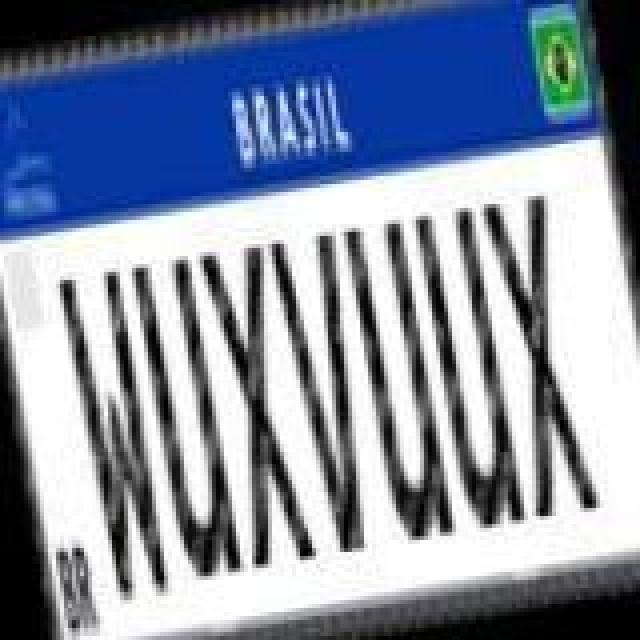U: (128, 250, 244, 586), (344, 214, 460, 550), (414, 202, 530, 538)
V: (270, 224, 390, 560)
W: (54, 268, 174, 604)
X: (198, 238, 318, 574), (480, 190, 600, 522)
